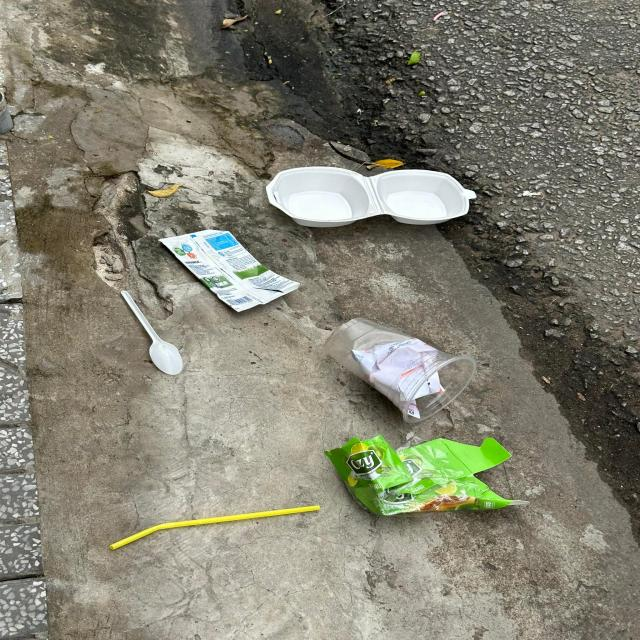cardboard box: (325, 434, 531, 516)
drinking straw: (108, 505, 320, 549)
foam box: (264, 168, 476, 227)
packet: (156, 229, 300, 313)
plastic glass: (323, 316, 476, 424)
plastic utensil: (121, 290, 185, 376)
